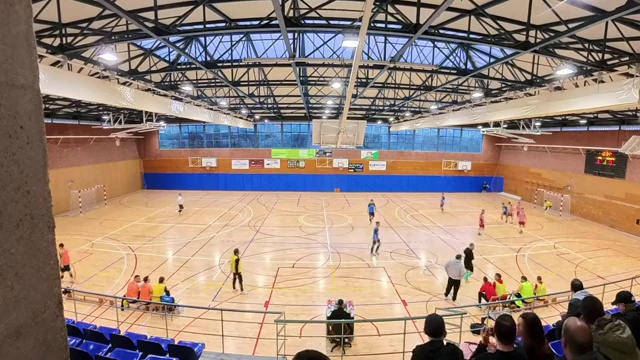players blue shirt: (370, 221, 380, 255), (367, 199, 375, 222), (501, 203, 508, 221), (441, 195, 445, 211)
players red shirt: (478, 209, 485, 234), (518, 211, 526, 232), (515, 202, 523, 222), (507, 201, 513, 223)
